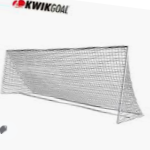goals: (1, 44, 146, 124)
